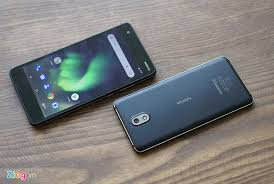nokia: (7, 19, 158, 133), (107, 53, 254, 159)
